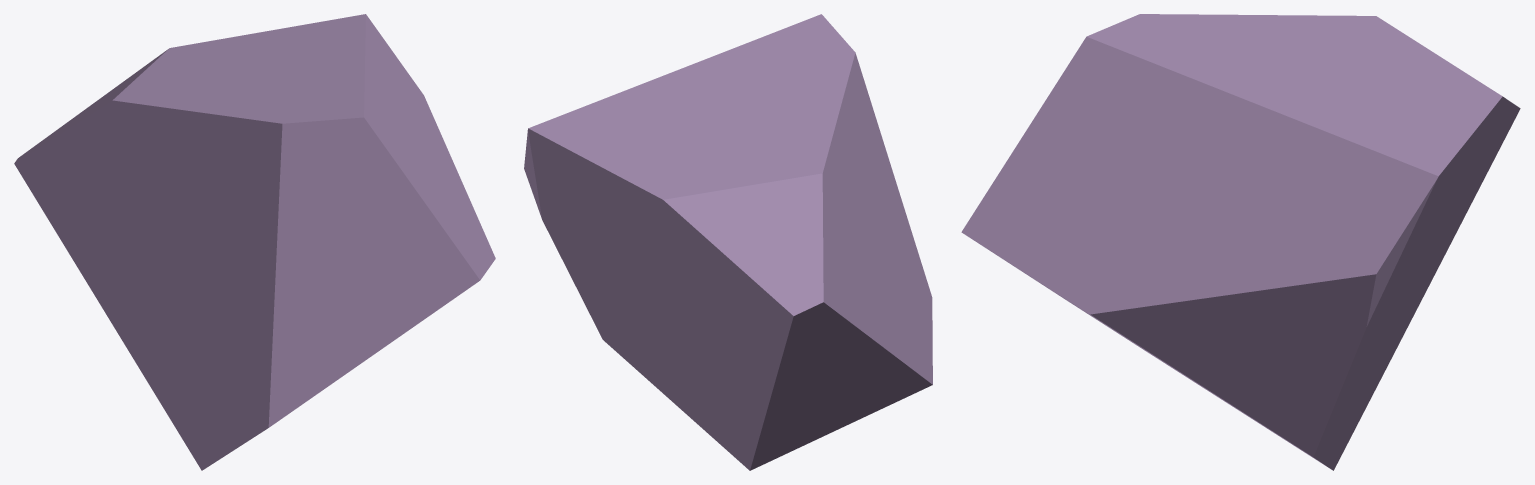
File: single-rock.fbx
The picture shows the model from 3 angles, left to right: view 1: azimuth 30°, elevation 25°; view 2: azimuth 150°, elevation 25°; view 3: azimuth 270°, elevation 25°; orthographic projection. The views are drawn at different scales.
Parts seen in each view (by area): view 1: Cube.048; view 2: Cube.048; view 3: Cube.048.
Part boxes in pixels (x1,y1,x2,y2): Cube.048: [14, 14, 495, 470]; Cube.048: [524, 14, 932, 470]; Cube.048: [961, 14, 1520, 470].
Size of the model in its own units: 76.1 by 78.68 by 88.16.
